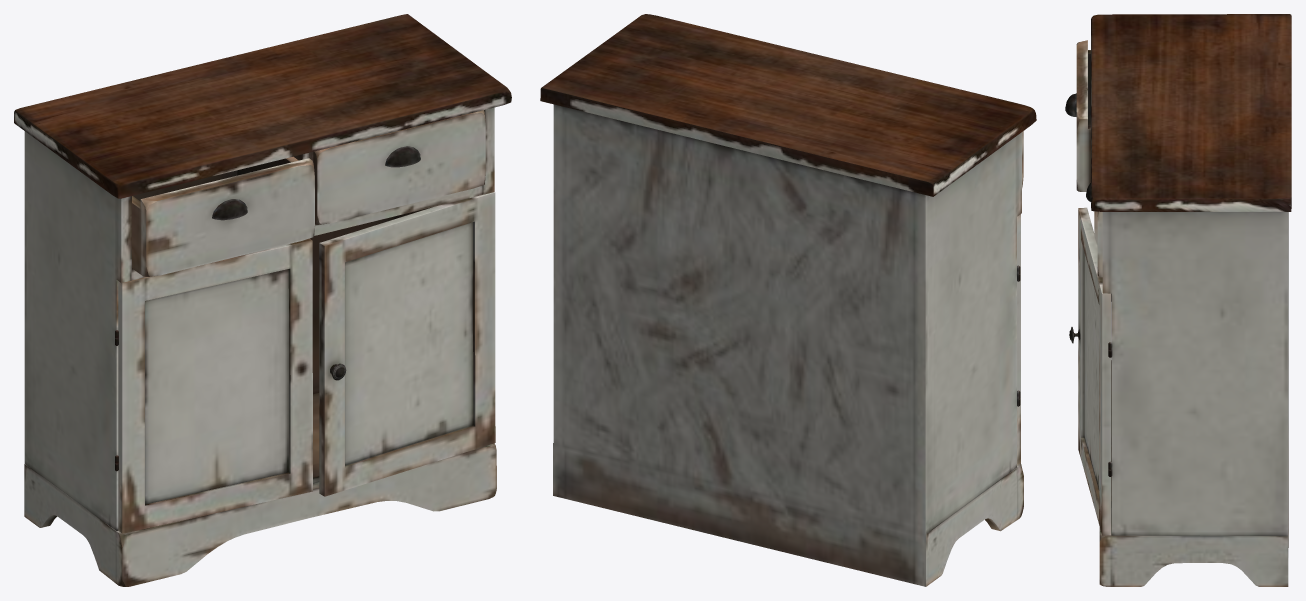
File: painted_wooden_cabinet.glb
The picture shows the model from 3 angles, left to right: view 1: azimuth 30°, elevation 25°; view 2: azimuth 150°, elevation 25°; view 3: azimuth 270°, elevation 25°; orthographic projection. The views are drawn at different scales.
Parts seen in each view (by area): view 1: painted_wooden_cabinet, painted_wooden_cabinet_door_01, painted_wooden_cabinet_door_02, painted_wooden_cabinet_drawer_01, painted_wooden_cabinet_drawer_02; view 2: painted_wooden_cabinet, painted_wooden_cabinet_door_01; view 3: painted_wooden_cabinet, painted_wooden_cabinet_door_02, painted_wooden_cabinet_drawer_01, painted_wooden_cabinet_drawer_02.
Part boxes in pixels (box(x1,y1,x2,y2)): painted_wooden_cabinet: box(14, 14, 511, 586); painted_wooden_cabinet_door_01: box(118, 238, 312, 533); painted_wooden_cabinet_door_02: box(319, 192, 495, 496); painted_wooden_cabinet_drawer_01: box(132, 156, 314, 277); painted_wooden_cabinet_drawer_02: box(313, 110, 485, 224); painted_wooden_cabinet: box(540, 14, 1036, 586); painted_wooden_cabinet_door_01: box(1017, 214, 1020, 465); painted_wooden_cabinet: box(1091, 14, 1291, 586); painted_wooden_cabinet_door_02: box(1069, 207, 1110, 535); painted_wooden_cabinet_drawer_01: box(1065, 40, 1090, 191); painted_wooden_cabinet_drawer_02: box(1086, 183, 1102, 277).
Bounding box in the file's own units: 1.19 × 1.18 × 0.616.
1 material, 1 textured.
